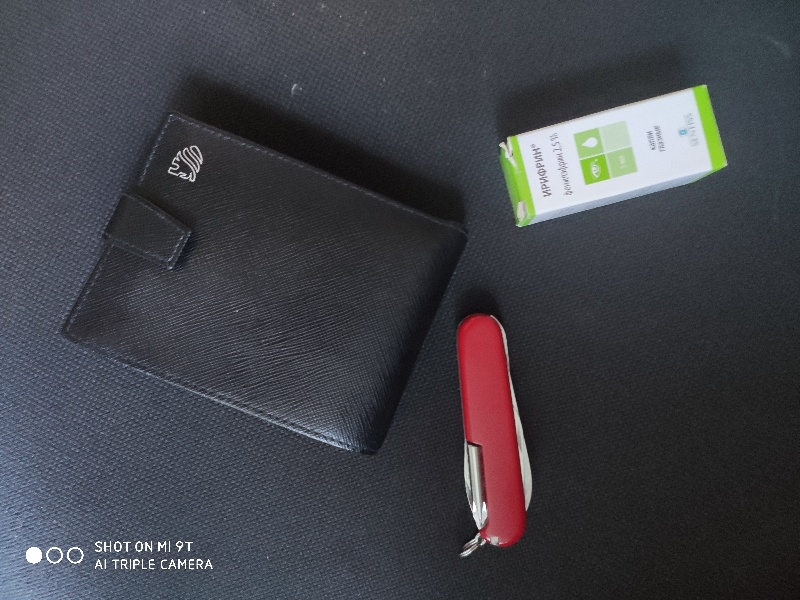ifrin: (488, 78, 735, 231)
knife: (448, 308, 541, 558)
wallet: (55, 108, 468, 455)
